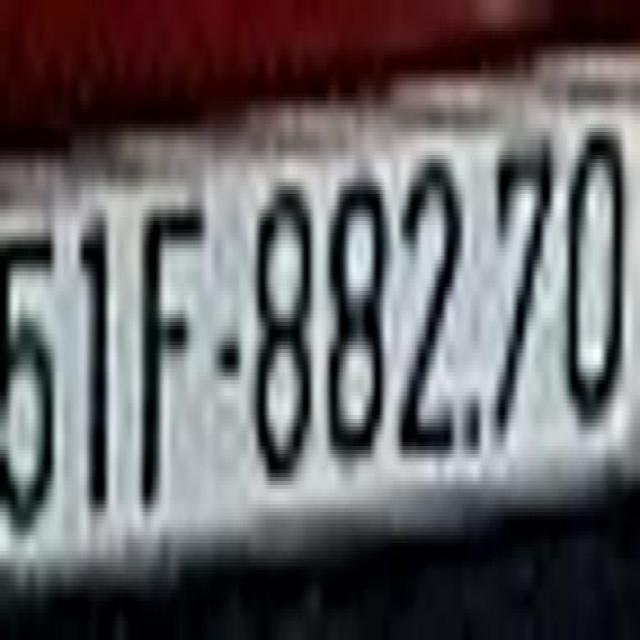0: (569, 120, 623, 427)
1: (84, 202, 106, 512)
2: (400, 163, 462, 461)
5: (1, 218, 56, 532)
7: (493, 109, 559, 438)
8: (258, 194, 310, 481), (332, 178, 382, 446)
F: (141, 198, 204, 504)
